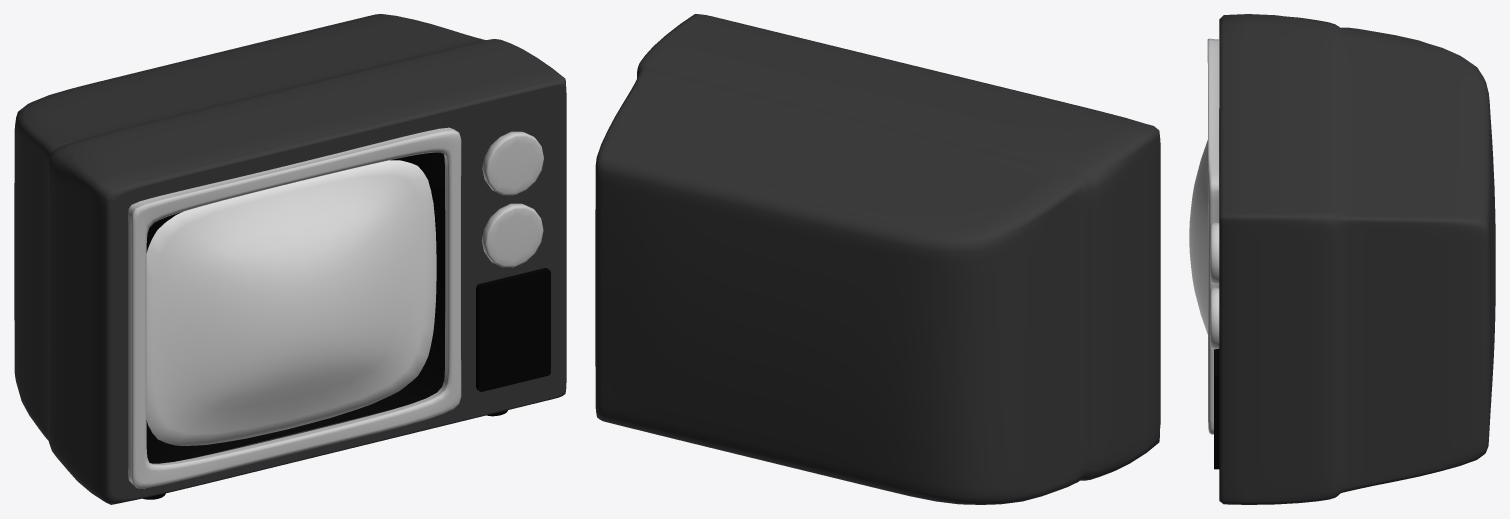
3 renders of one model, left to right at view 1: azimuth 30°, elevation 25°; view 2: azimuth 150°, elevation 25°; view 3: azimuth 270°, elevation 25°, orthographic. The views are drawn at different scales.
Parts seen in each view (by area): view 1: Body, Screen, Border, DarkProp, BorderInside, LightProp; view 2: Body; view 3: Body, Border, Screen, LightProp, DarkProp.
Part boxes in pixels (bbox=[...]): Body: bbox=[14, 14, 566, 504]; Screen: bbox=[146, 160, 436, 445]; Border: bbox=[128, 127, 461, 488]; DarkProp: bbox=[143, 268, 550, 499]; BorderInside: bbox=[146, 152, 444, 463]; LightProp: bbox=[481, 131, 543, 267]; Body: bbox=[595, 14, 1160, 504]; Body: bbox=[1219, 14, 1495, 504]; Border: bbox=[1207, 38, 1218, 434]; Screen: bbox=[1189, 108, 1219, 334]; LightProp: bbox=[1210, 222, 1219, 349]; DarkProp: bbox=[1214, 348, 1219, 469].
Bounding box in the file's own units: 0.5984 × 0.4037 × 0.3778.
Materials: 1 (1 with a texture image).
